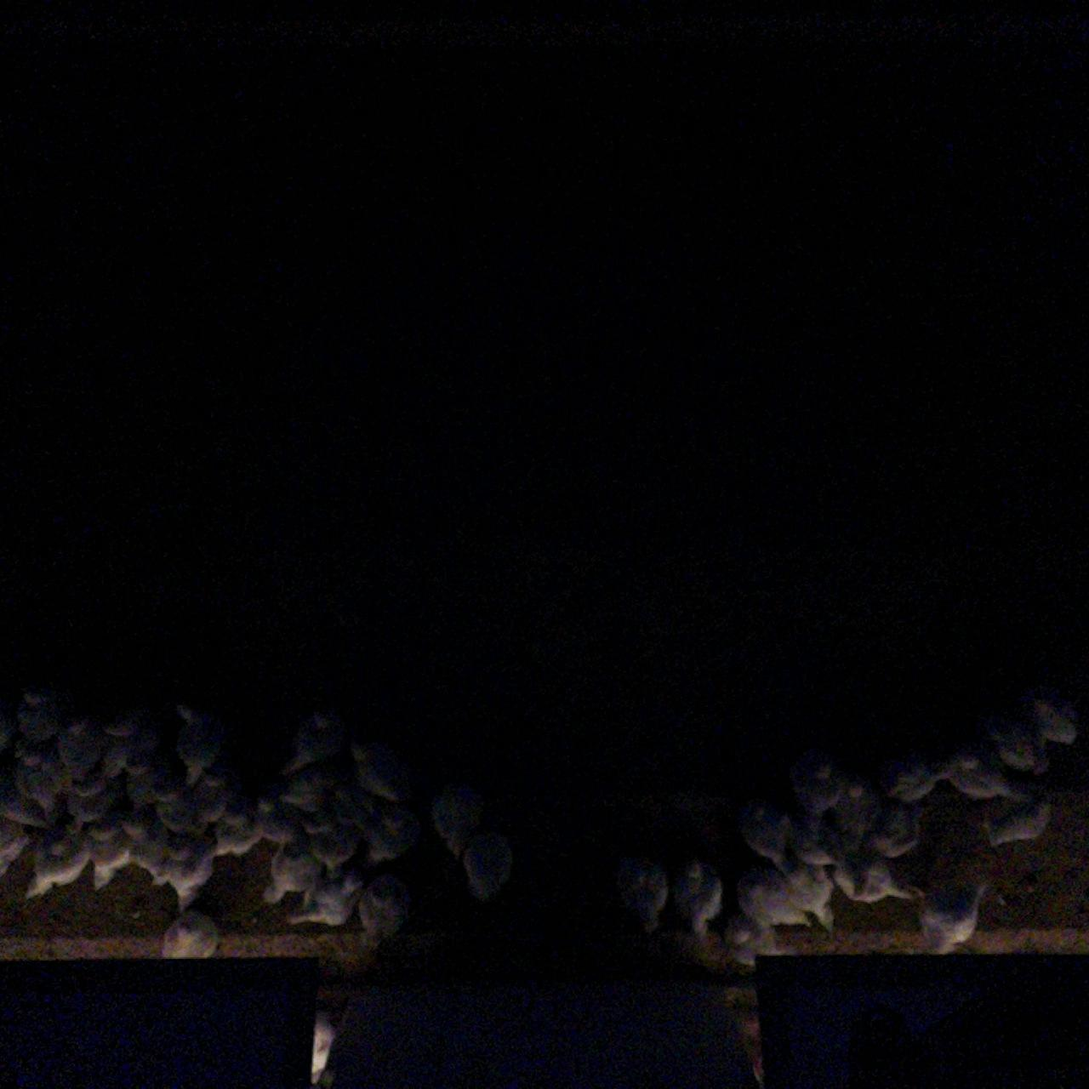chicken: (918, 873, 990, 958), (21, 816, 93, 900), (277, 703, 353, 780), (829, 838, 916, 903), (733, 866, 815, 930), (285, 868, 369, 928), (428, 776, 488, 859), (827, 770, 887, 853), (791, 744, 845, 836), (350, 736, 419, 807), (1018, 678, 1086, 750), (617, 851, 673, 938), (723, 907, 800, 970), (352, 869, 413, 948), (860, 794, 929, 862), (980, 716, 1054, 779), (934, 743, 1016, 799), (120, 800, 172, 888), (777, 857, 836, 934), (676, 854, 726, 943), (261, 838, 324, 908), (184, 764, 242, 840), (460, 828, 515, 903), (739, 799, 793, 875), (102, 718, 172, 776), (174, 702, 224, 783), (980, 796, 1055, 850), (165, 834, 218, 910), (250, 792, 316, 852), (0, 763, 59, 829), (10, 742, 62, 815), (65, 773, 122, 837), (211, 793, 264, 861), (87, 816, 132, 894), (305, 808, 360, 871), (368, 803, 423, 865), (119, 748, 174, 807), (272, 765, 342, 811), (55, 711, 103, 778), (11, 687, 68, 743), (883, 748, 941, 803), (786, 818, 848, 869), (329, 779, 385, 835), (163, 910, 221, 962), (304, 1006, 338, 1088), (98, 694, 157, 736), (0, 814, 37, 878), (156, 781, 195, 841), (0, 691, 20, 750)
